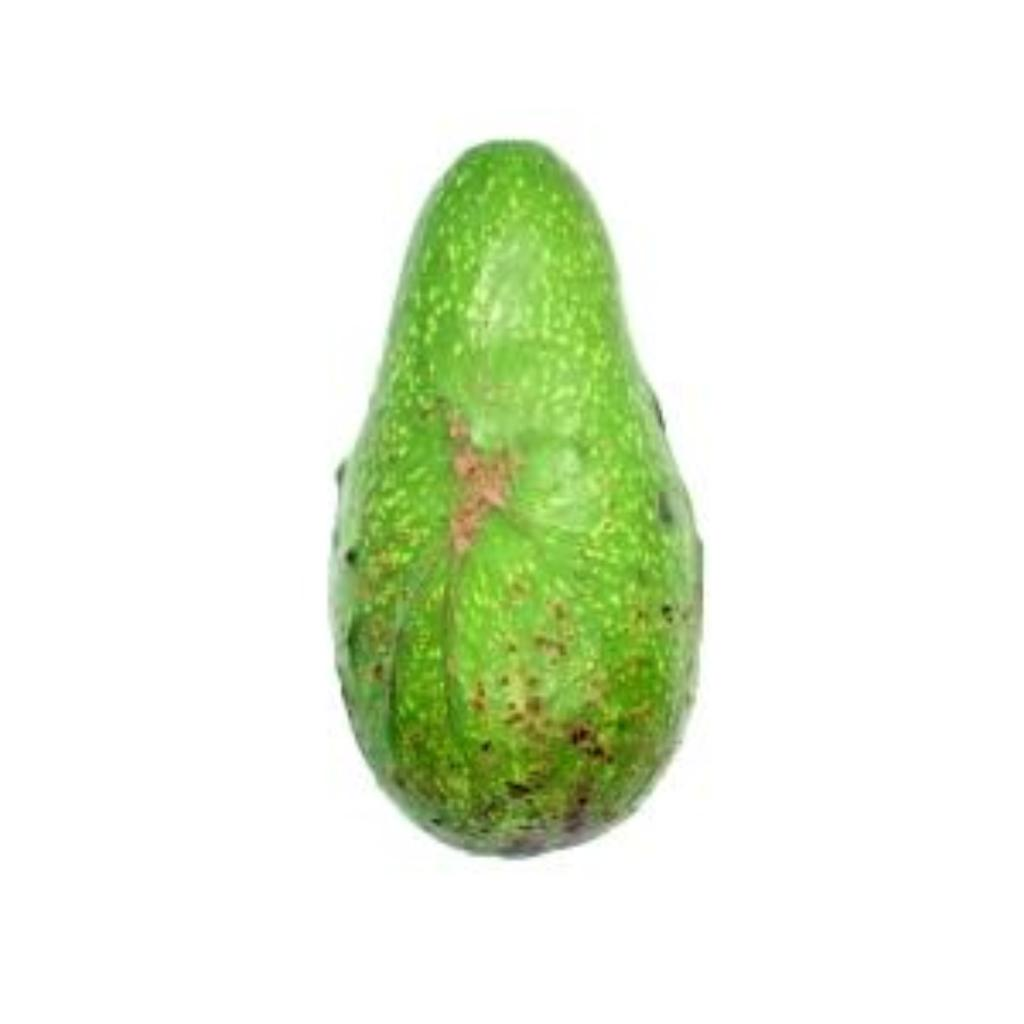cercospora: (321, 128, 717, 876)
